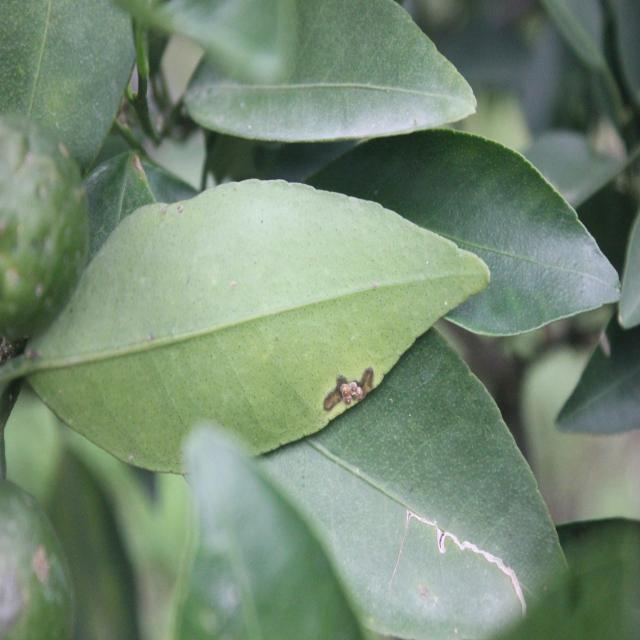canker: (269, 278, 412, 475)
